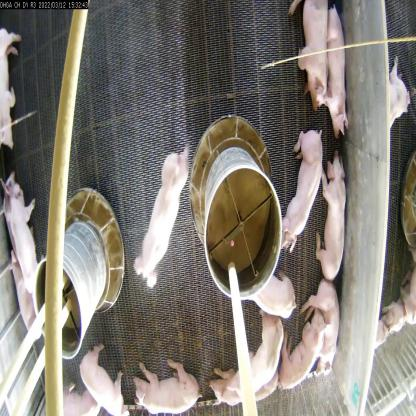Pig: (137, 142, 190, 290), (284, 122, 331, 252), (129, 353, 213, 416), (76, 331, 132, 415), (287, 0, 334, 94), (4, 169, 40, 290), (316, 151, 347, 290), (228, 316, 284, 388), (322, 20, 356, 136), (277, 319, 320, 410), (312, 278, 348, 383), (215, 360, 282, 416), (248, 267, 301, 326)
